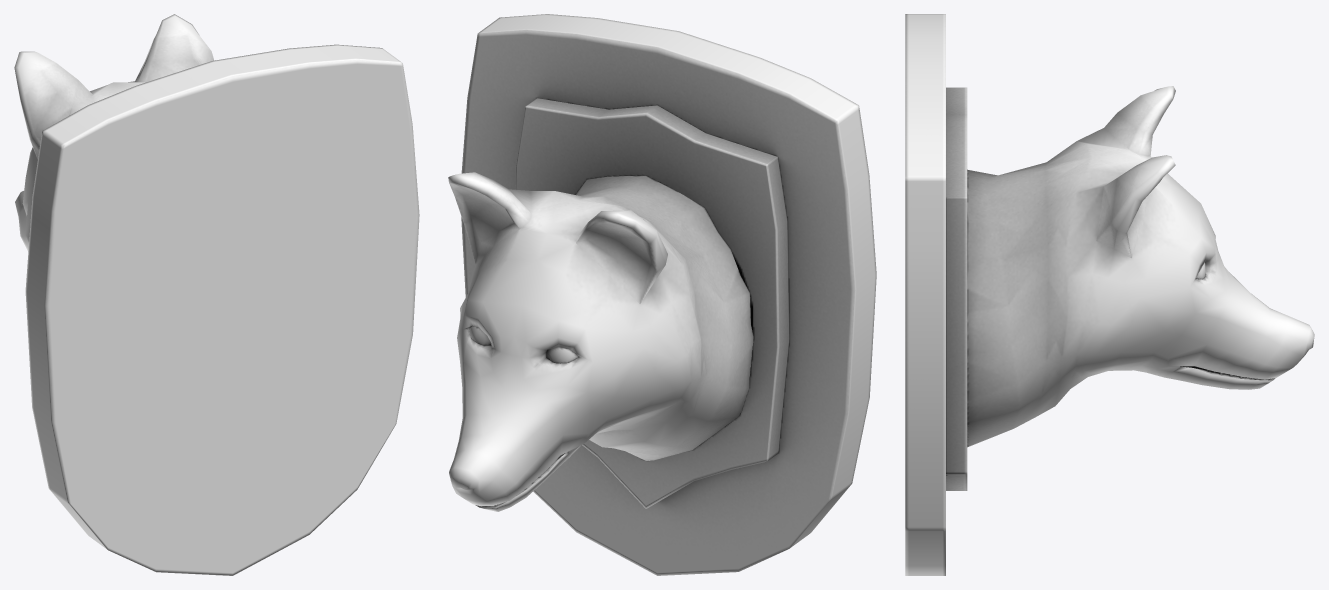
File: Wolf_Head.fbx
3 views of the same model, side by side, from view 1: azimuth 30°, elevation 25°; view 2: azimuth 150°, elevation 25°; view 3: azimuth 270°, elevation 25° (orthographic). The views are drawn at different scales.
Visible parts, largest first — view 1: Wolf_Head; view 2: Wolf_Head; view 3: Wolf_Head.
Boxes of the visible parts, x1,y1,x2,y2 form: Wolf_Head: (14, 14, 419, 575); Wolf_Head: (448, 14, 876, 575); Wolf_Head: (905, 14, 1314, 575).
Size of the model in its own units: 0.6657 by 0.8517 by 0.6405.
